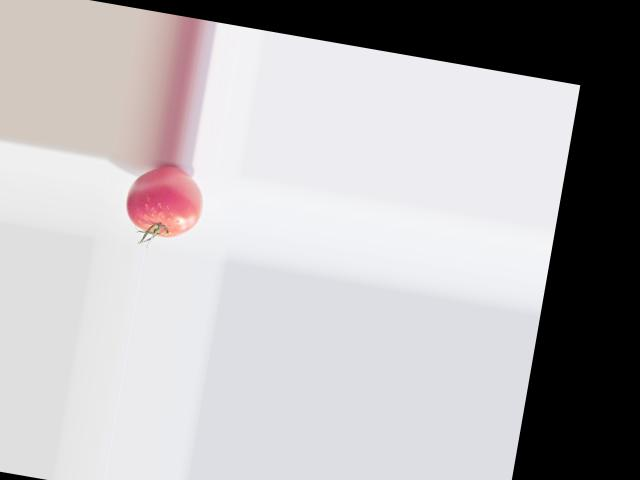tomato: (122, 159, 209, 241)
